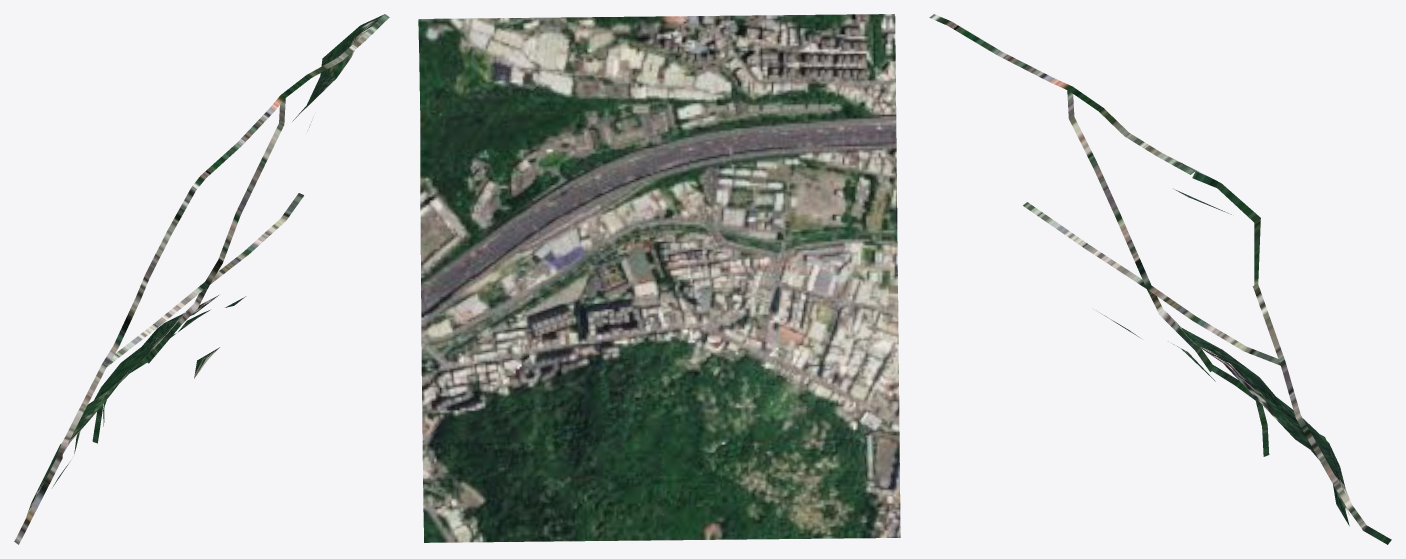
3 views of the same model, side by side, from view 1: azimuth 30°, elevation 25°; view 2: azimuth 150°, elevation 25°; view 3: azimuth 270°, elevation 25° (orthographic). The views are drawn at different scales.
Size of the model in its own units: 1197 by 1132 by 1091.
1 material, 1 textured.
